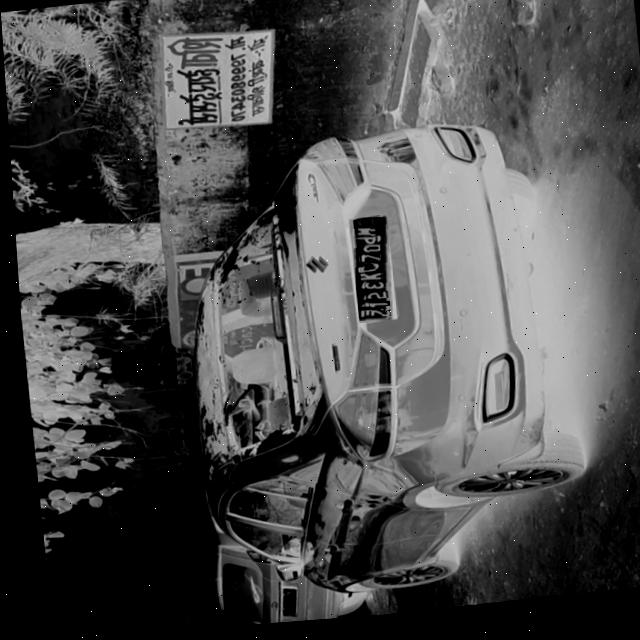0: (355, 248, 376, 259)
1: (364, 305, 385, 312)
2: (364, 313, 385, 322)
3: (360, 285, 380, 294)
5: (361, 295, 383, 305)
7: (355, 258, 376, 268)
C: (356, 267, 377, 277)
IND: (349, 222, 368, 233)
Indian_registered: (350, 221, 383, 326)
K: (359, 275, 379, 286)
M: (352, 229, 377, 242)
P: (353, 240, 373, 250)
